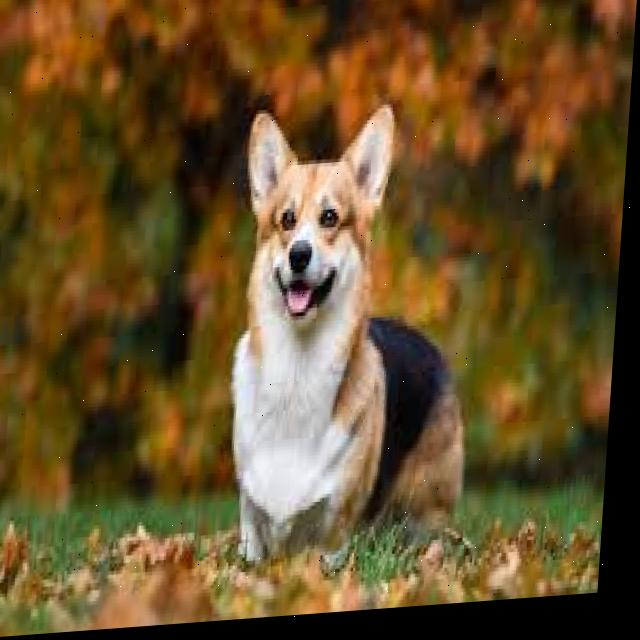CORGI: (223, 104, 501, 560)
